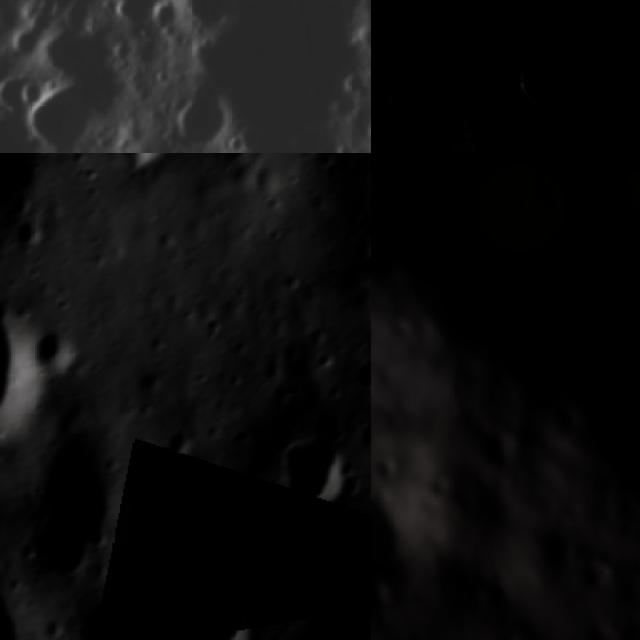crater: (27, 411, 129, 598), (500, 44, 592, 144), (15, 69, 118, 153), (375, 61, 460, 149), (278, 429, 362, 517), (485, 0, 585, 66), (155, 81, 244, 153), (371, 457, 414, 600), (0, 292, 40, 436), (0, 536, 55, 640), (173, 584, 254, 640), (96, 0, 187, 41), (64, 595, 141, 640), (0, 153, 50, 219), (74, 153, 180, 184), (33, 320, 81, 382), (532, 528, 578, 578), (160, 421, 200, 472), (3, 212, 47, 258), (402, 0, 454, 30), (245, 576, 278, 619), (345, 359, 371, 402), (356, 416, 371, 459), (220, 153, 251, 173), (357, 244, 371, 281), (491, 631, 545, 640)
